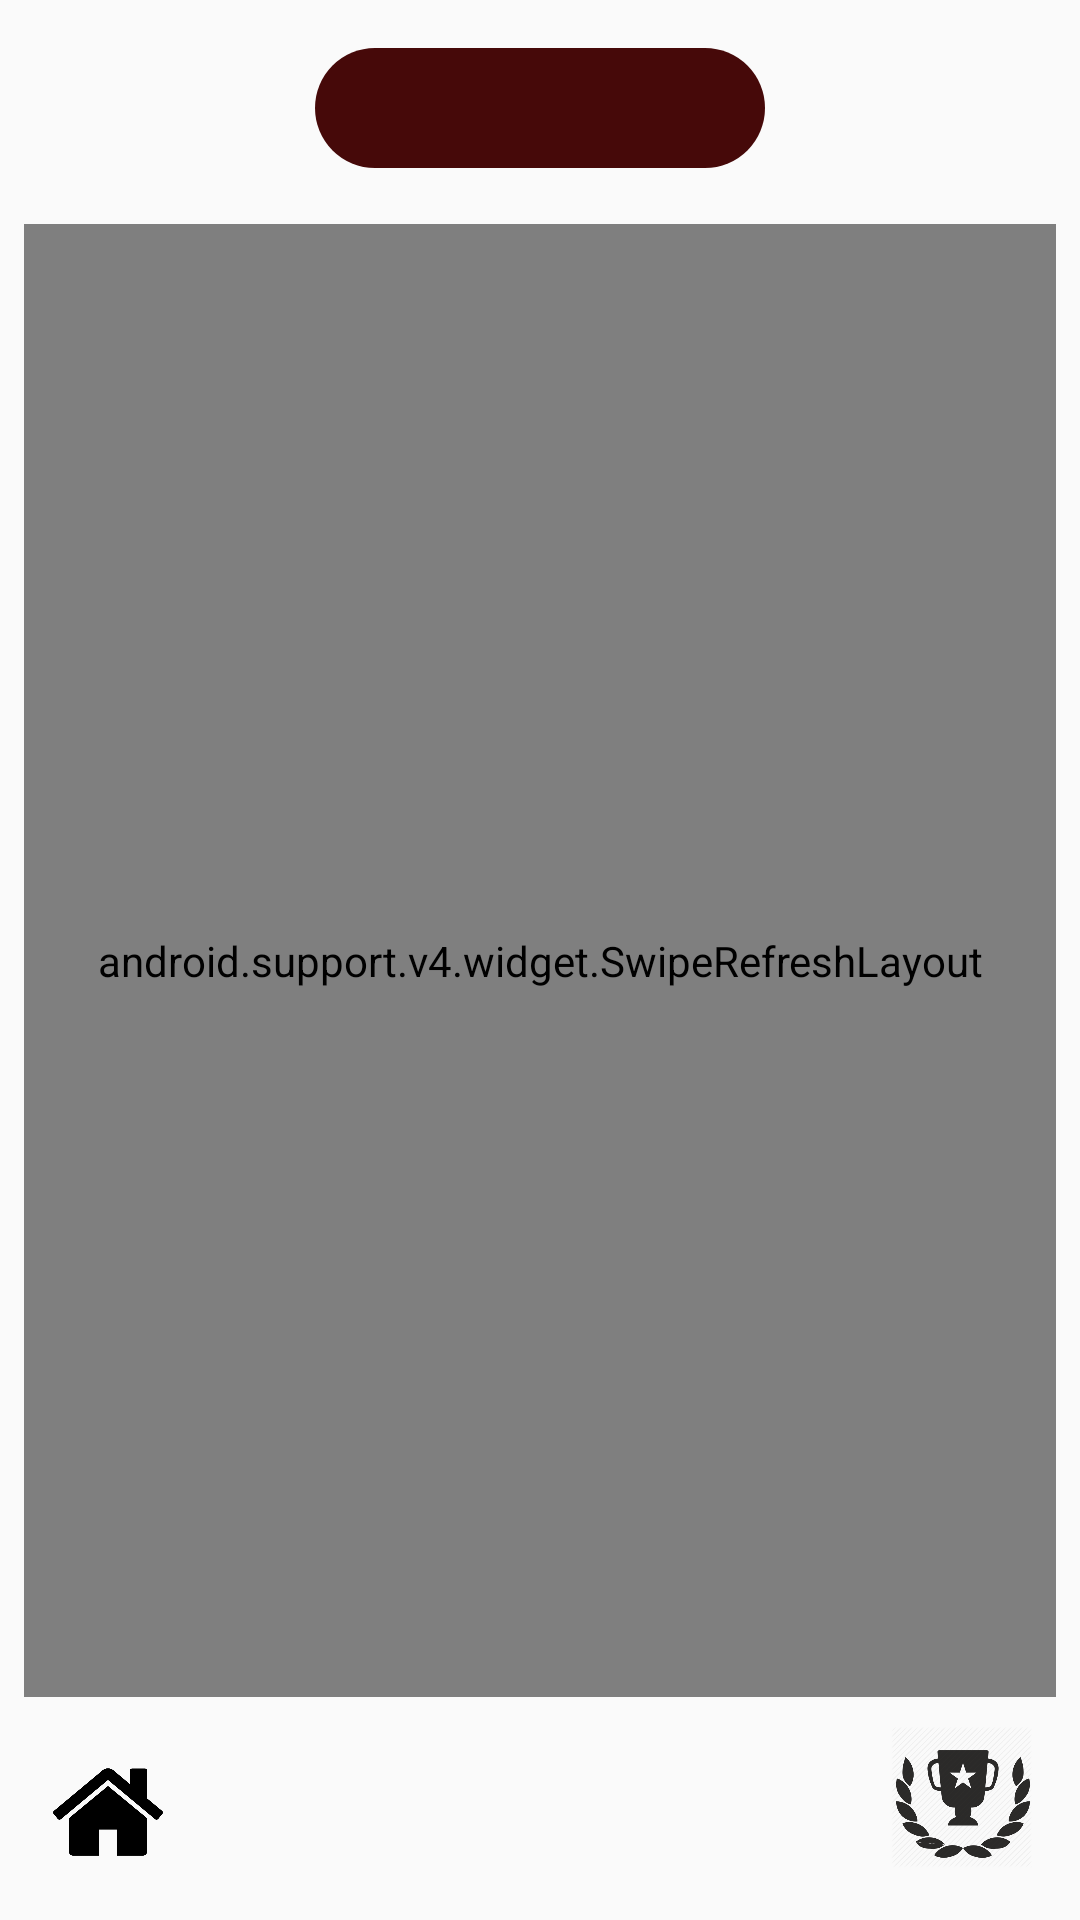

Named icons in this screenshot (1080 x 1920) and their centers, [x,y]:
home: [108,1812]
winner: [963,1804]
